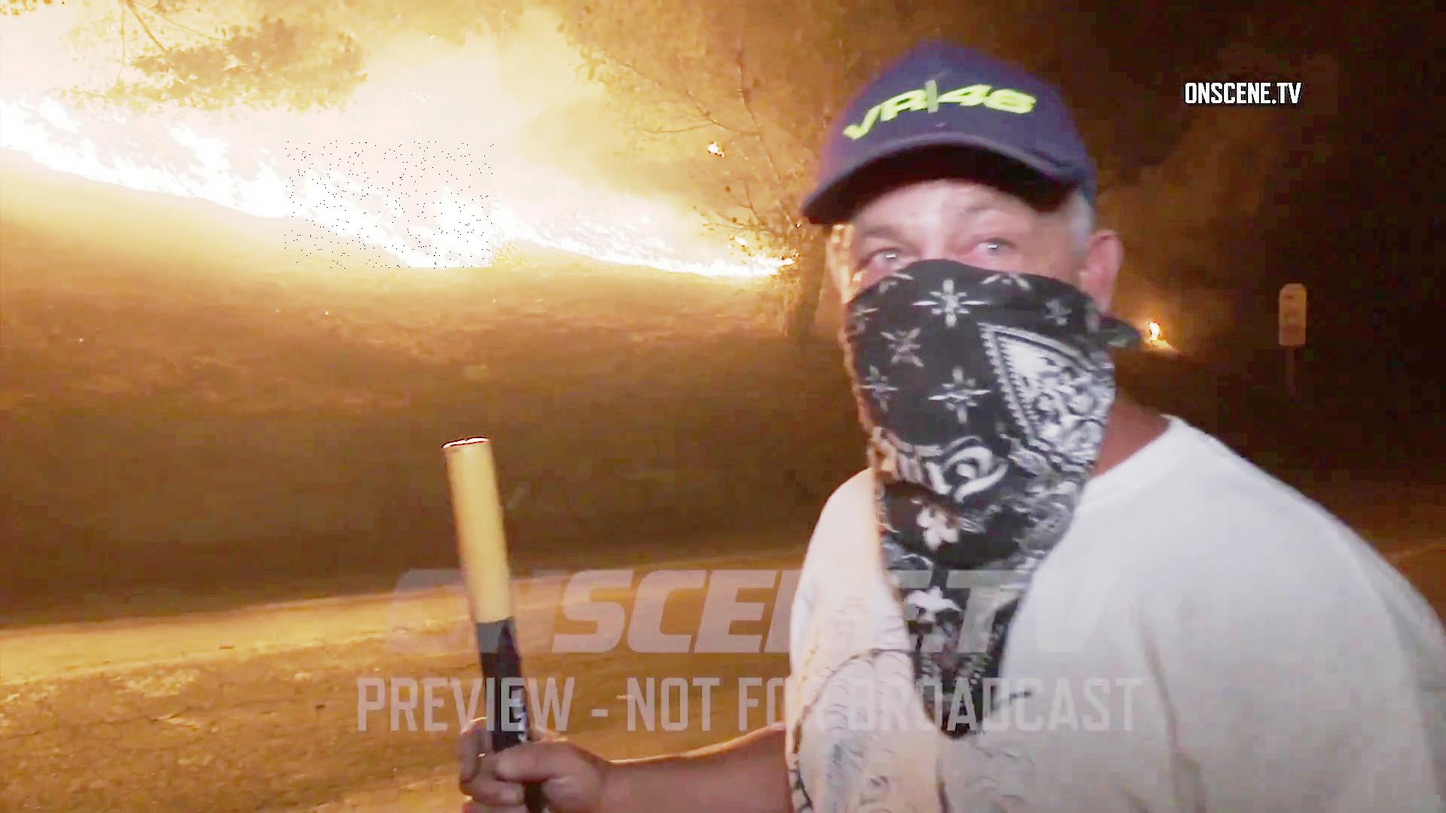fire: (285, 141, 494, 269)
